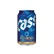paper: (16, 9, 36, 45)
